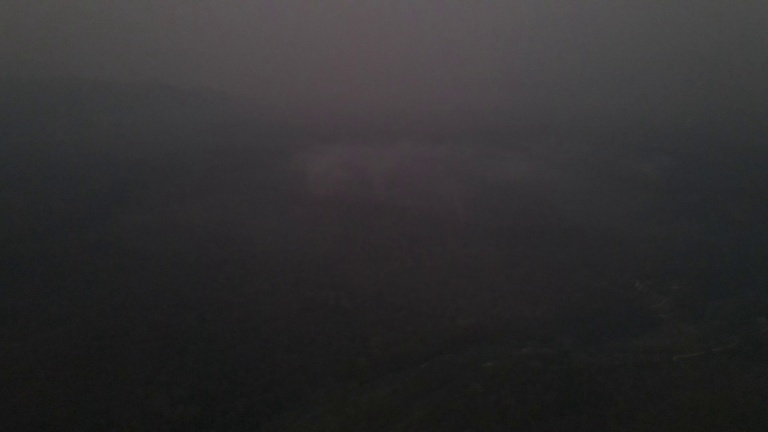smoke: (288, 140, 513, 210)
